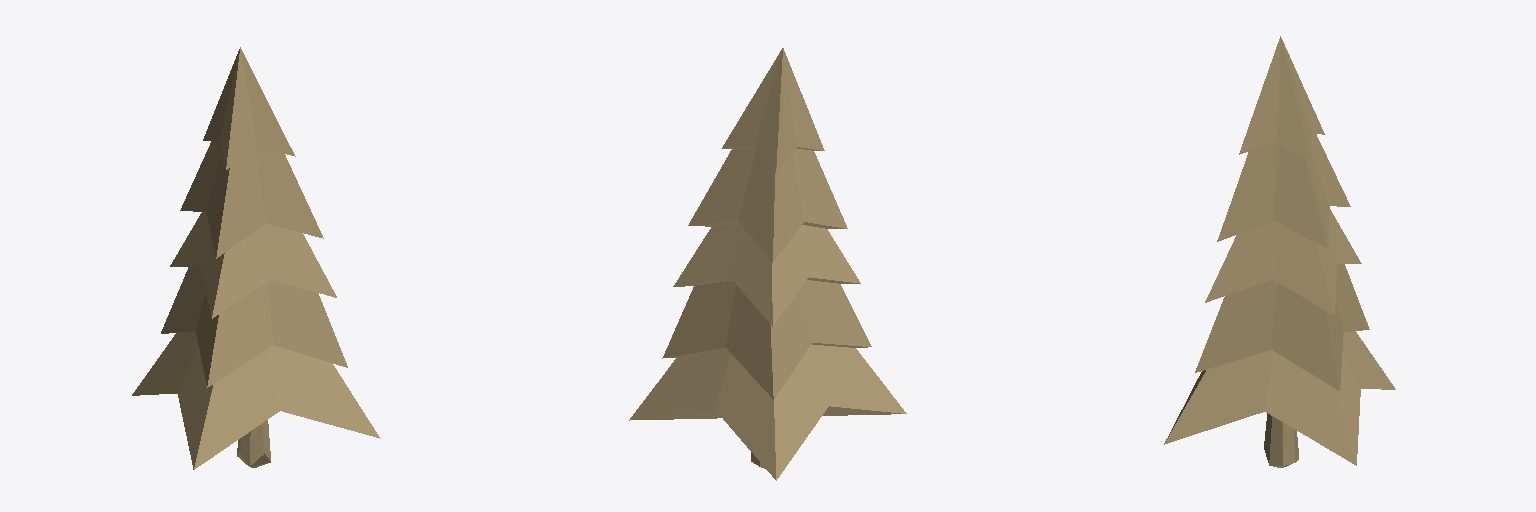
File: tree3.obj
The picture shows the model from 3 angles: view 1: azimuth 30°, elevation 25°; view 2: azimuth 150°, elevation 25°; view 3: azimuth 270°, elevation 25°; orthographic projection.
Parts seen in each view (by area): view 1: Object_52; view 2: Object_52; view 3: Object_52.
Boxes of the visible parts, x1=… form: Object_52: x1=132, y1=47, x2=380, y2=469; Object_52: x1=629, y1=48, x2=906, y2=480; Object_52: x1=1164, y1=36, x2=1395, y2=467.
Size of the model in its own units: 38.9 by 78.53 by 38.87.